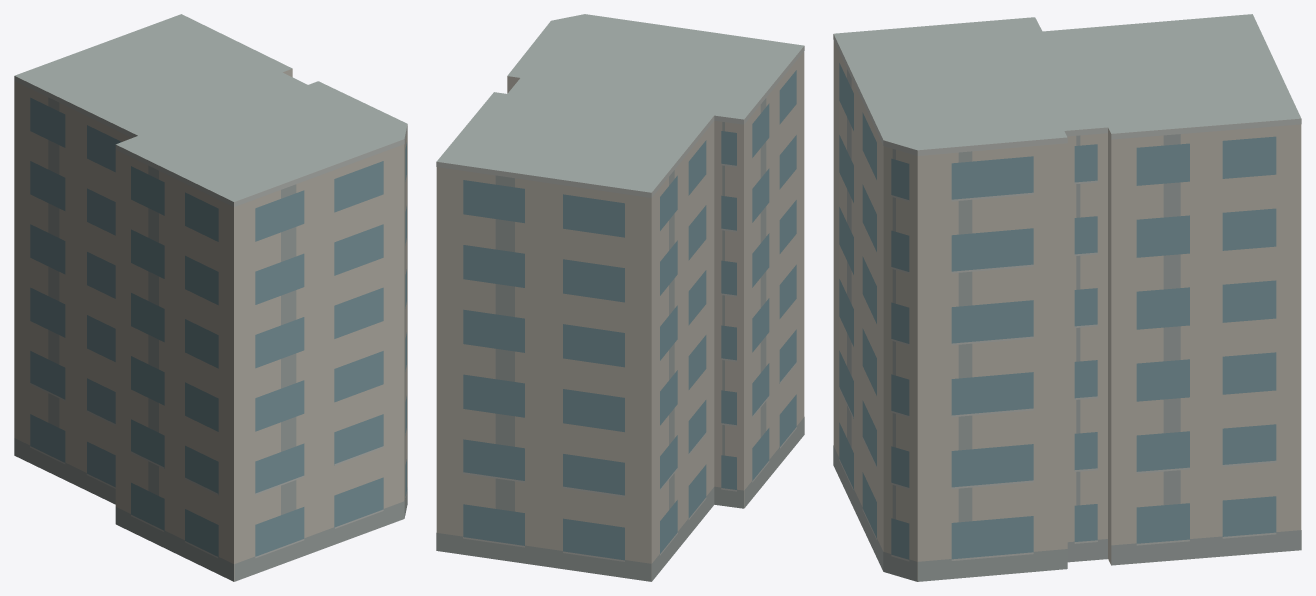
Rendered from survey-upis-32610103.glb.
The picture shows the model from 3 angles, left to right: view 1: azimuth 30°, elevation 25°; view 2: azimuth 150°, elevation 25°; view 3: azimuth 270°, elevation 25°; orthographic projection. The views are drawn at different scales.
Visible parts, largest first — view 1: survey-upis-32610103.tmp; view 2: survey-upis-32610103.tmp; view 3: survey-upis-32610103.tmp.
Boxes of the visible parts, <box> form: survey-upis-32610103.tmp: <box>14,14,407,581</box>; survey-upis-32610103.tmp: <box>436,14,804,581</box>; survey-upis-32610103.tmp: <box>833,14,1301,581</box>.
Bounding box in the file's own units: 12.41 × 18.3 × 18.
